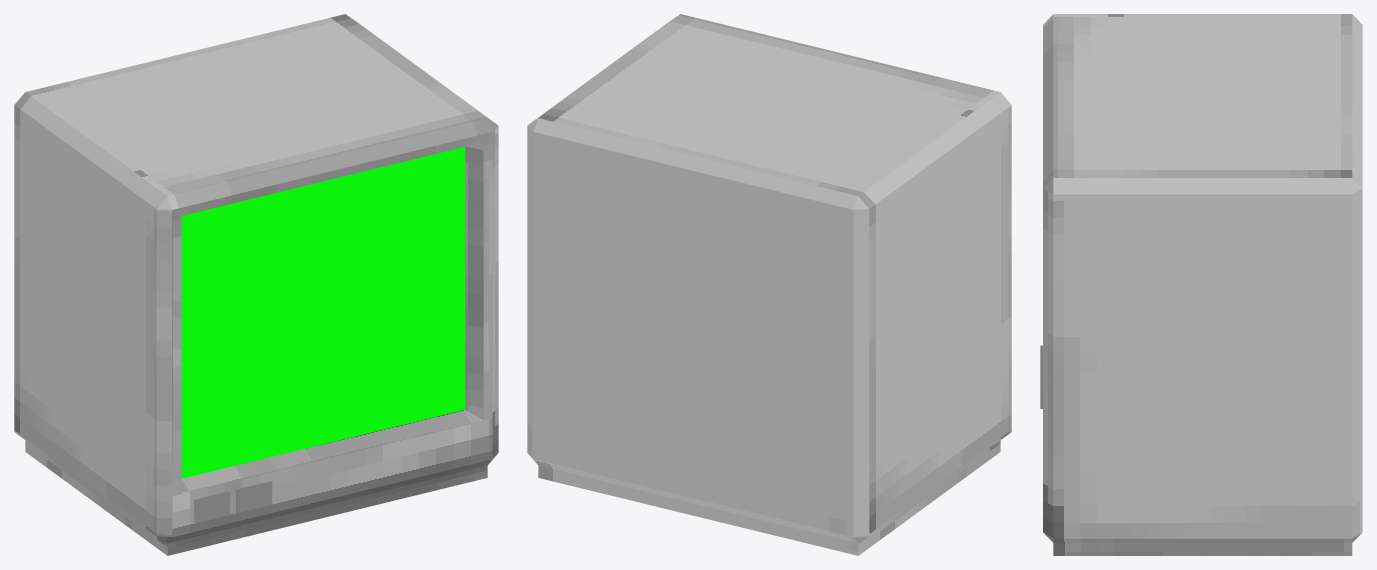
The picture shows the model from 3 angles, left to right: view 1: azimuth 30°, elevation 25°; view 2: azimuth 150°, elevation 25°; view 3: azimuth 270°, elevation 25°; orthographic projection. The views are drawn at different scales.
Visible parts, largest first — view 1: CRT.002; view 2: CRT.002; view 3: CRT.002.
Boxes of the visible parts, x1=… form: CRT.002: x1=14, y1=14, x2=498, y2=555; CRT.002: x1=527, y1=14, x2=1011, y2=555; CRT.002: x1=1040, y1=14, x2=1362, y2=555.
Bounding box in the file's own units: 5.54 × 5.57 × 4.3.
Materials: 3 (1 with a texture image).
